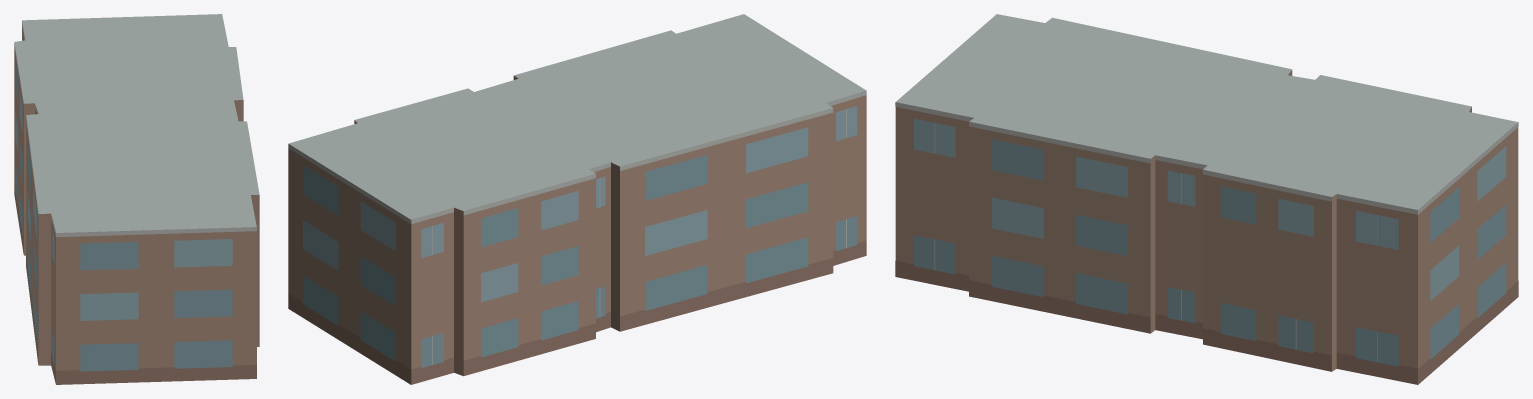
File: survey-upis-32943898.glb
The picture shows the model from 3 angles, left to right: view 1: azimuth 30°, elevation 25°; view 2: azimuth 150°, elevation 25°; view 3: azimuth 270°, elevation 25°; orthographic projection. The views are drawn at different scales.
Visible parts, largest first — view 1: survey-upis-32943898.tmp; view 2: survey-upis-32943898.tmp; view 3: survey-upis-32943898.tmp.
Part boxes in pixels (<box>): survey-upis-32943898.tmp: <box>14,14,259,384</box>; survey-upis-32943898.tmp: <box>288,14,866,384</box>; survey-upis-32943898.tmp: <box>895,14,1518,384</box>.
Bounding box in the file's own units: 21.66 × 9 × 29.07.
